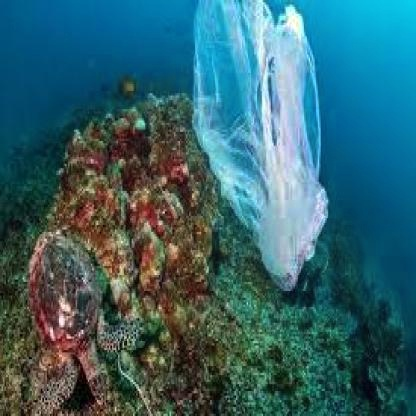pbag: (180, 2, 334, 296)
